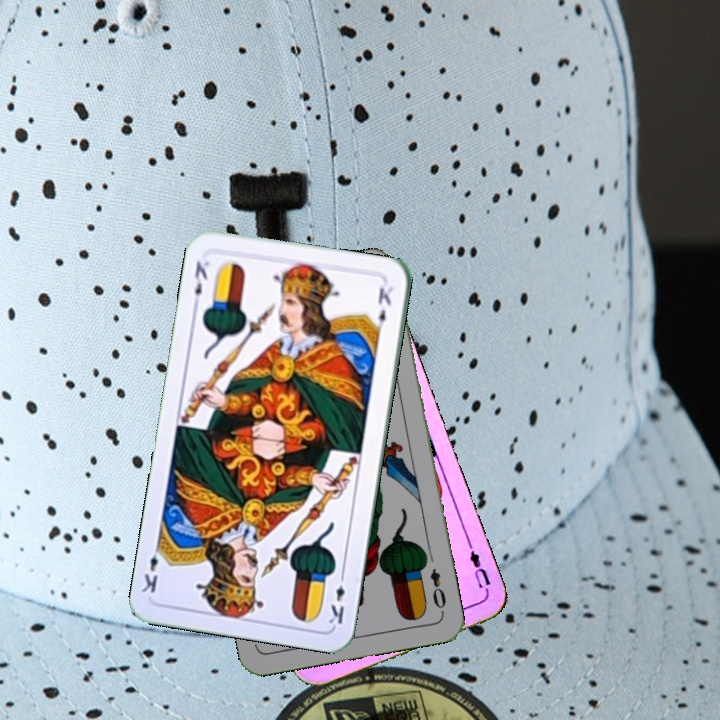EK: (325, 568, 347, 627), (189, 257, 212, 311)
EO: (426, 564, 449, 616)
EU: (463, 540, 493, 597)
